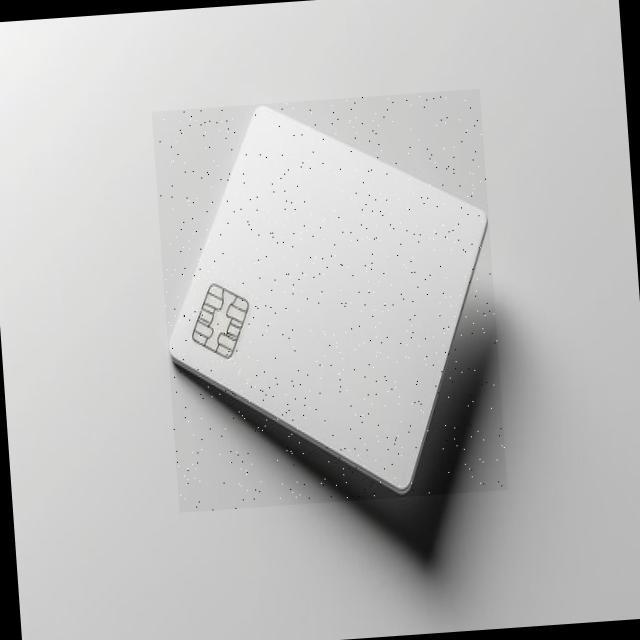payment_card: (159, 95, 491, 500)
